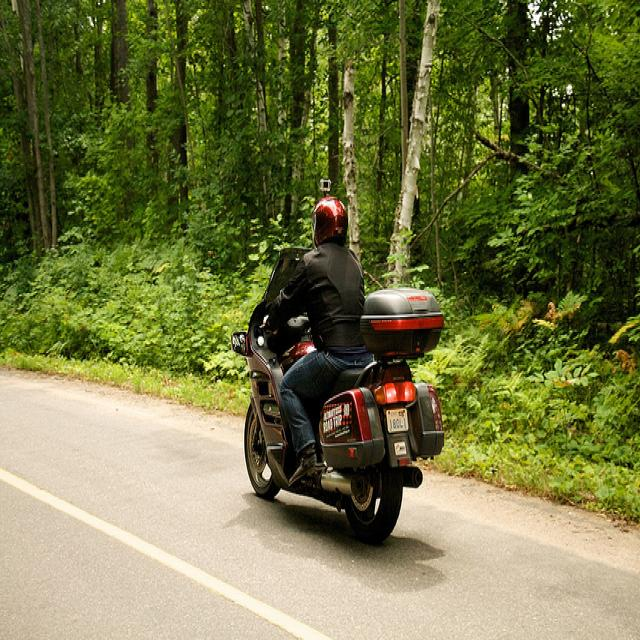motor: (226, 249, 459, 542)
